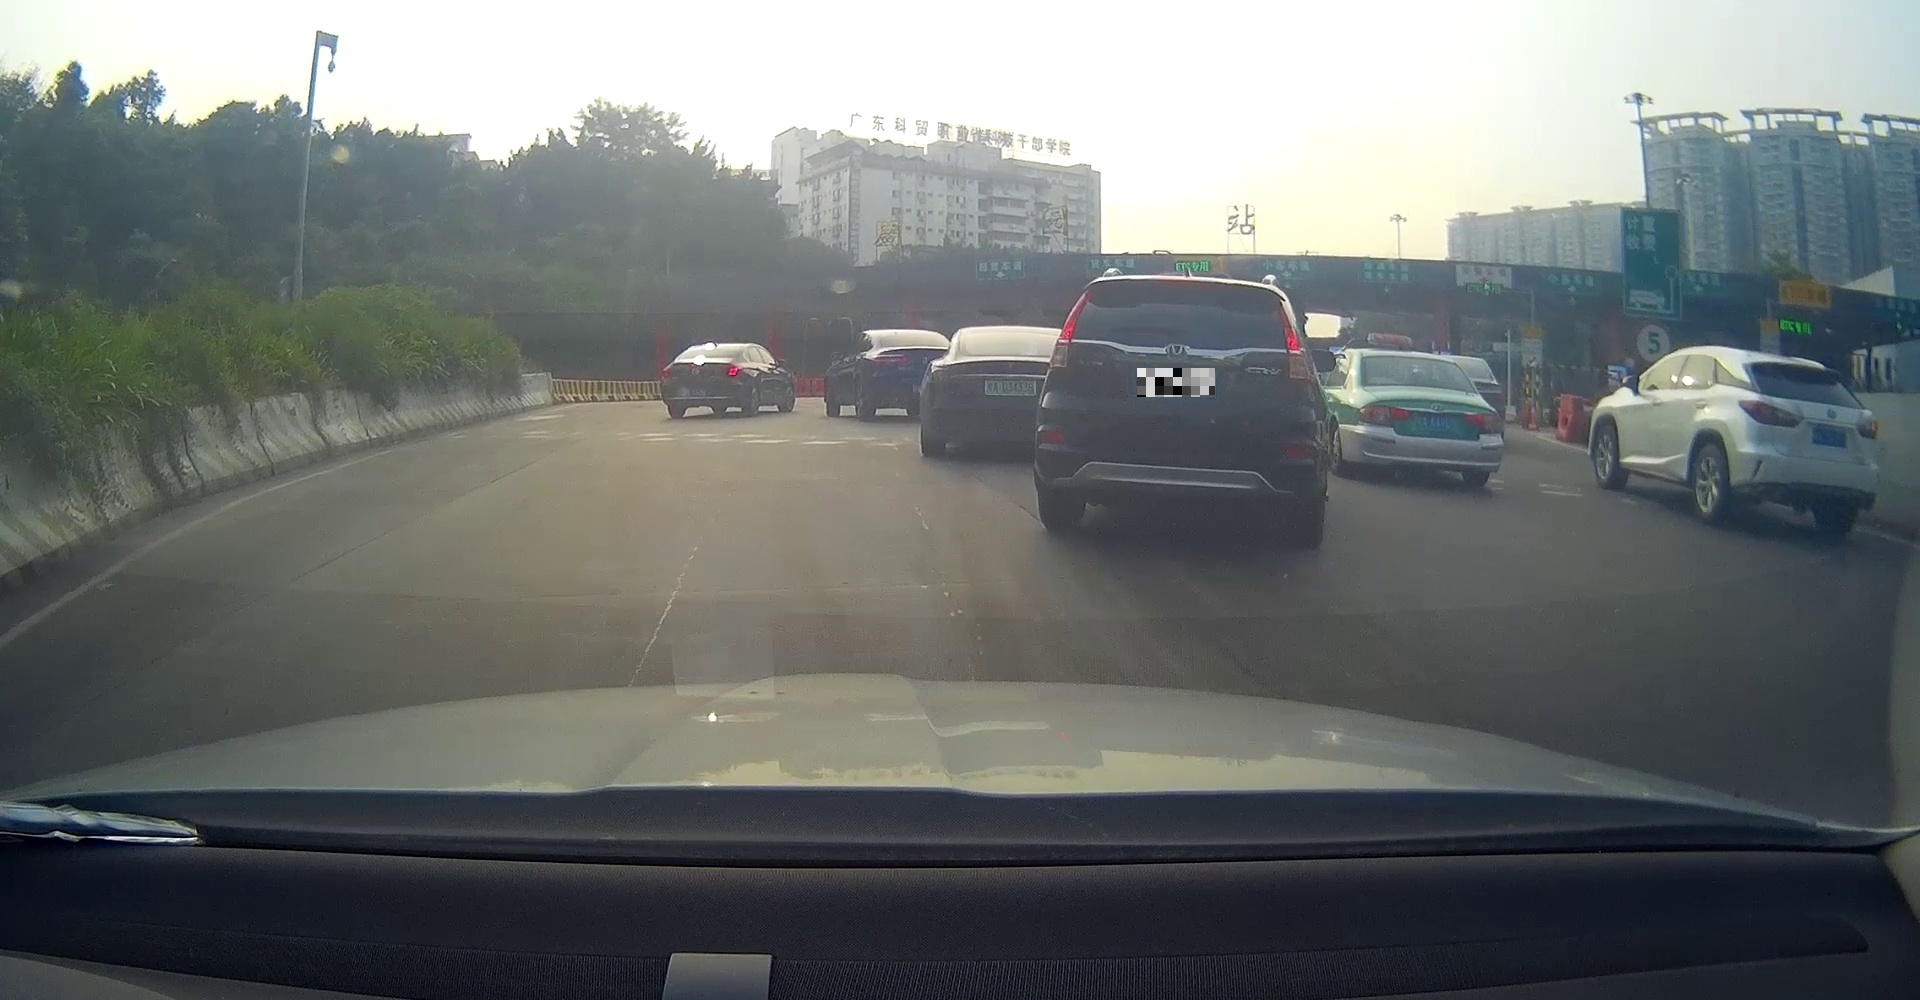L_light: (1049, 288, 1092, 368), (1738, 400, 1803, 426), (1357, 405, 1412, 426), (662, 368, 670, 378)
R_light: (1277, 301, 1310, 379), (1464, 412, 1501, 431), (1855, 418, 1876, 439), (728, 367, 738, 376)
T_light: (1164, 278, 1206, 286), (1797, 369, 1815, 374), (1403, 359, 1426, 363), (709, 346, 721, 348)
day-no: (1034, 274, 1326, 549), (1735, 357, 1878, 536), (1354, 352, 1503, 485), (660, 344, 747, 419)
plate_1: (1137, 368, 1215, 397)
